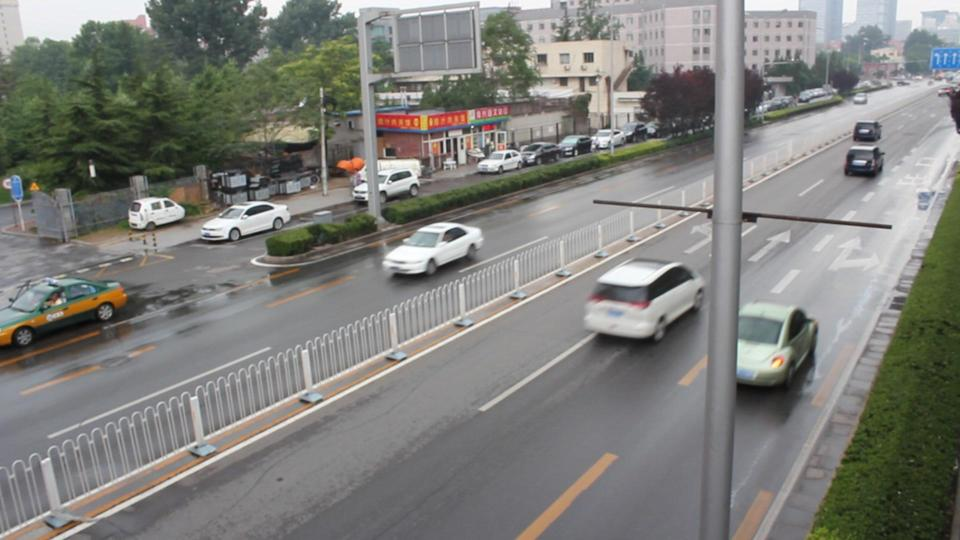Car: (583, 255, 704, 345), (712, 299, 817, 387), (381, 221, 480, 277)
Minivan: (841, 145, 881, 173)
